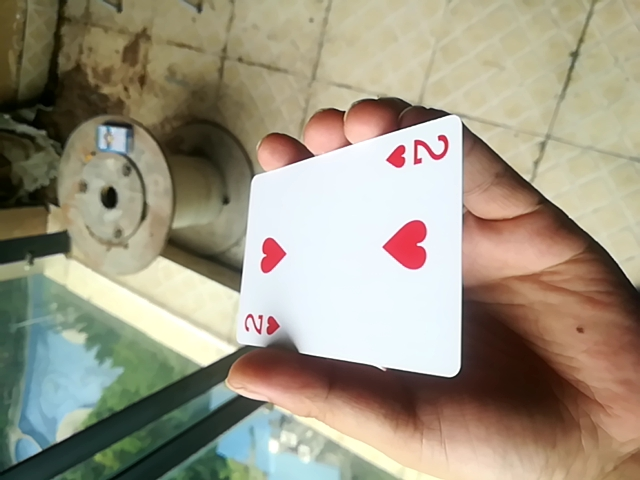hx 2: (233, 114, 465, 384)
